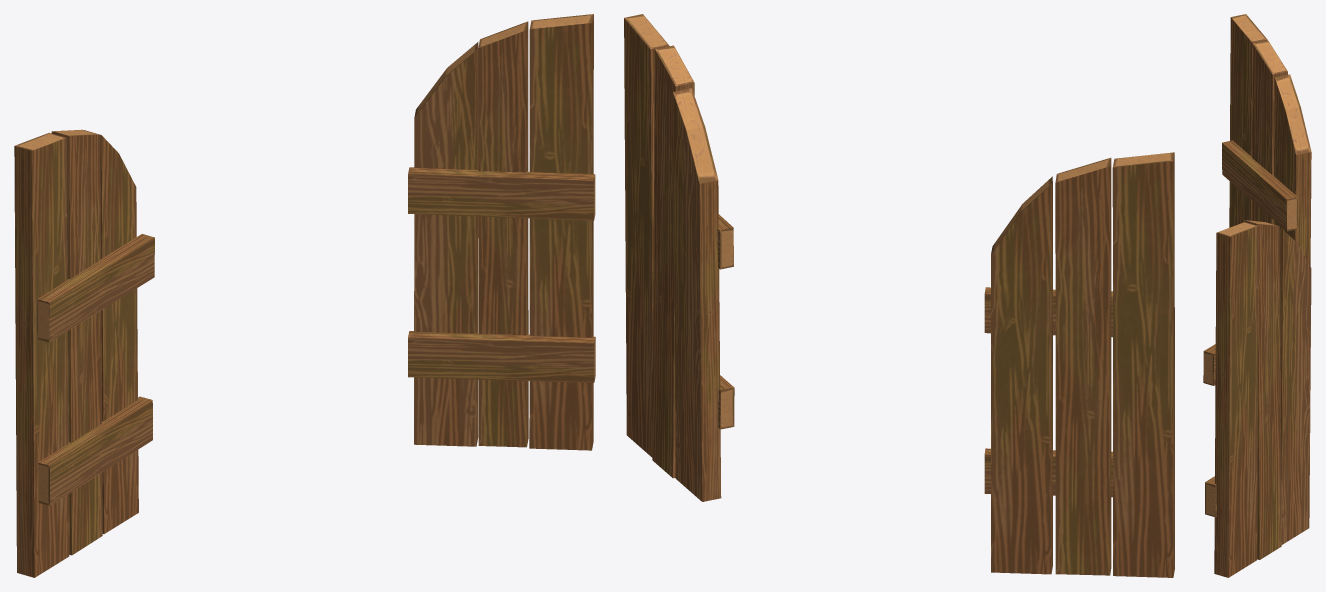
Rendered from WindowShutters_Wide_Round_Open.glb.
The picture shows the model from 3 angles, left to right: view 1: azimuth 30°, elevation 25°; view 2: azimuth 150°, elevation 25°; view 3: azimuth 270°, elevation 25°; orthographic projection. The views are drawn at different scales.
Parts seen in each view (by area): view 1: WindowShutters_Wide_Round_Open; view 2: WindowShutters_Wide_Round_Open; view 3: WindowShutters_Wide_Round_Open.
Boxes of the visible parts, box(x1,y1,x2,y2) form: WindowShutters_Wide_Round_Open: box(14, 14, 595, 577); WindowShutters_Wide_Round_Open: box(624, 14, 1174, 577); WindowShutters_Wide_Round_Open: box(1203, 14, 1311, 577).
Bounding box in the file's own units: 2.3 × 1.65 × 0.4724.
1 material, 1 textured.
